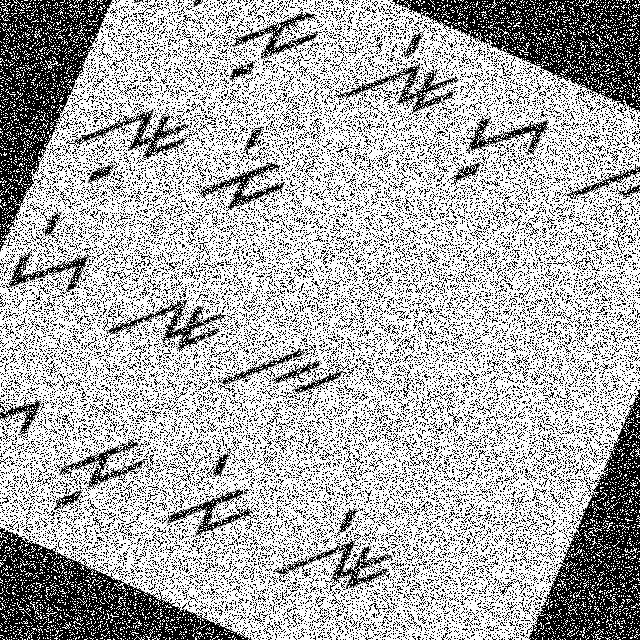he: (0, 193, 113, 318), (126, 0, 238, 36)
hu: (443, 86, 558, 213), (0, 362, 57, 497)
mbe: (151, 428, 277, 566), (188, 108, 310, 238)
mbu: (36, 402, 160, 540), (208, 0, 335, 116)
nda: (96, 264, 234, 388)
nde: (325, 2, 480, 149), (262, 482, 413, 626)
nu: (48, 68, 206, 224)
